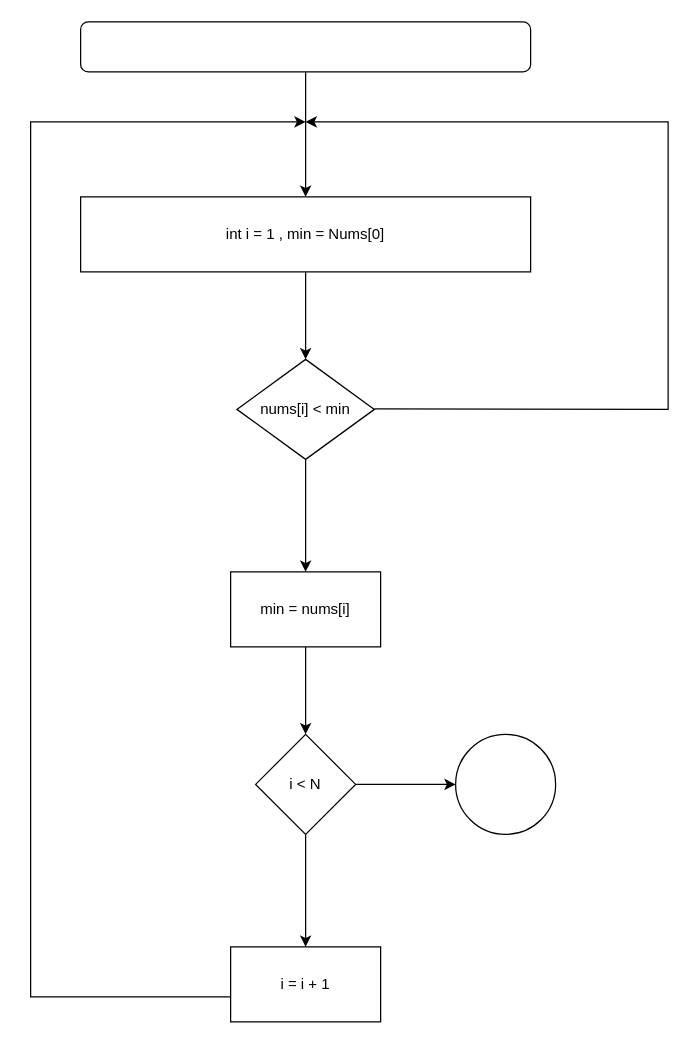
Some shapes in this 700 by 1044 pixel diagram are drawn without their labels. The shapes that lost their labels are listed below. From the top down, each one's centre as x and y in pixels, then its label:
At point (305, 46): "Do dai mang N , Mang Nums[N]".
At point (505, 783): "min".
